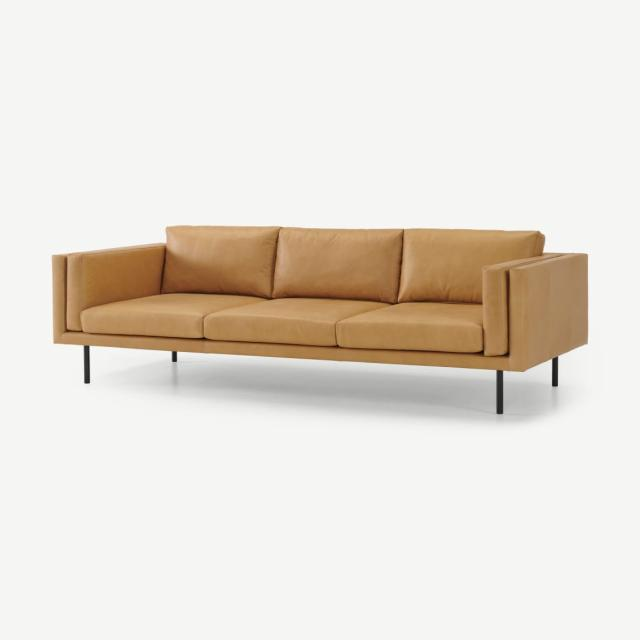back_cushion: (67, 226, 544, 354)
left_arm: (507, 254, 587, 370)
legs: (82, 345, 90, 384), (496, 370, 503, 414), (551, 357, 558, 386), (171, 351, 178, 363)
right_arm: (51, 255, 66, 343)
seat_cushion: (80, 294, 488, 356)
stallion-sofa: (0, 0, 639, 639)
